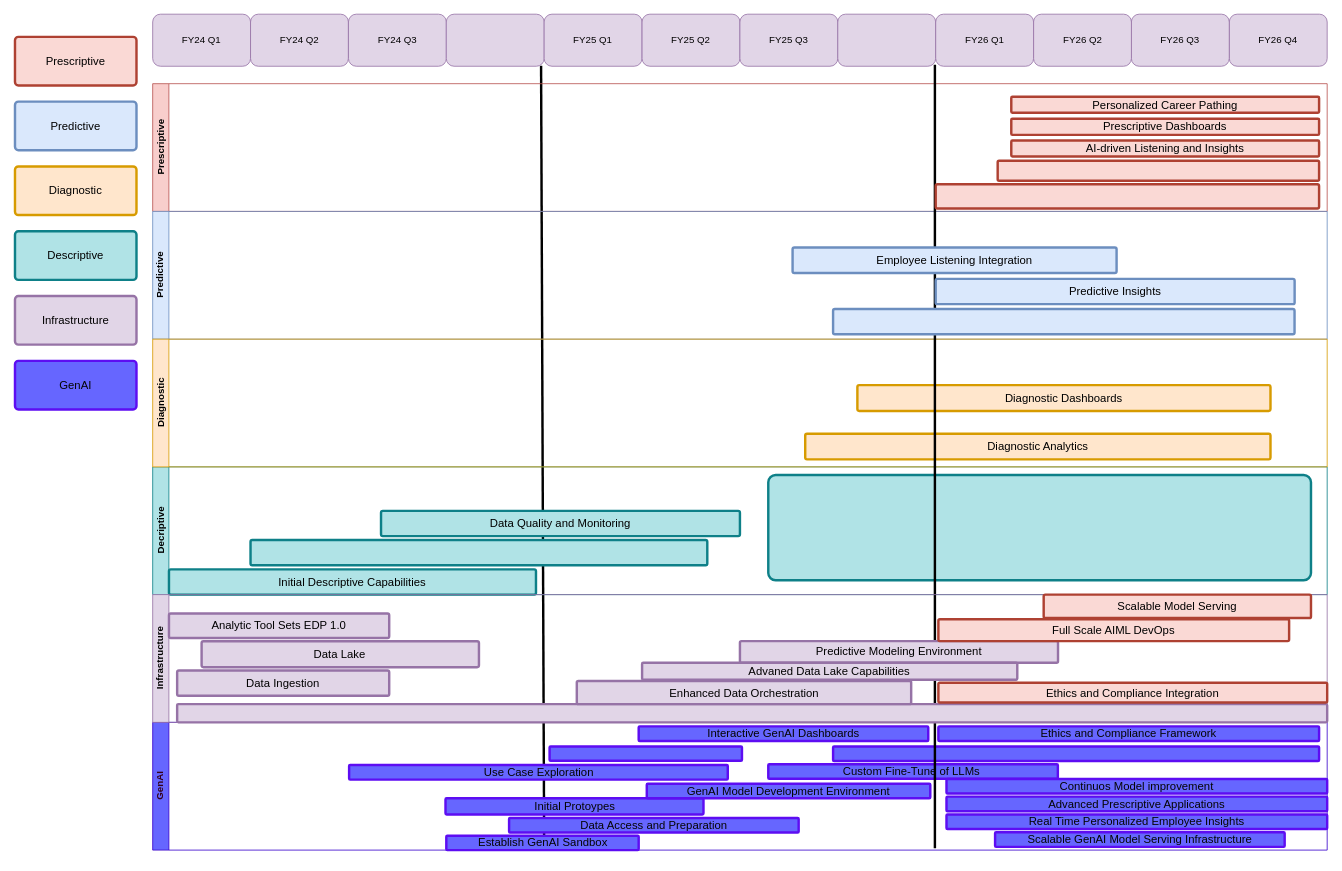
The diagram is 1342 pixels wide and 871 high, and some of its shapes have lost their labels. Here are the shapes that lost their labels. From the top down, the centre of each, then its label:
At pixel 495 39: "FY24 Q4".
At pixel 886 39: "FY25 Q4".
At pixel 1158 170: "Personalize Insights".
At pixel 1127 196: "Prescriptive Analytics".
At pixel 1063 321: "Predictive Models".
At pixel 1039 527: "Operation and Maintenance".
At pixel 478 552: "Production Dashboards".
At pixel 752 713: "Data Governance".
At pixel 645 753: "Partnerships with Vendors".
At pixel 1075 753: "Develop Targeted Applications".
